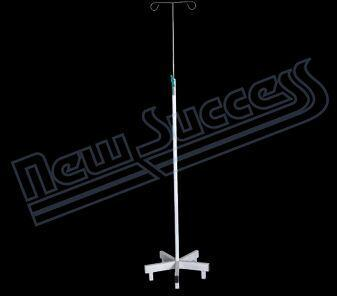Saline Stand: (142, 0, 210, 289)
